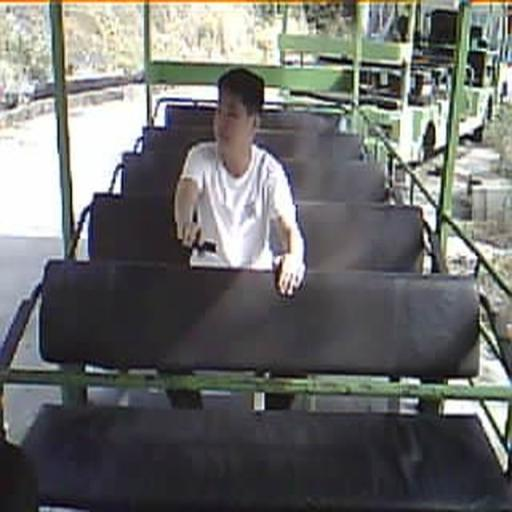persona: (173, 67, 308, 297)
